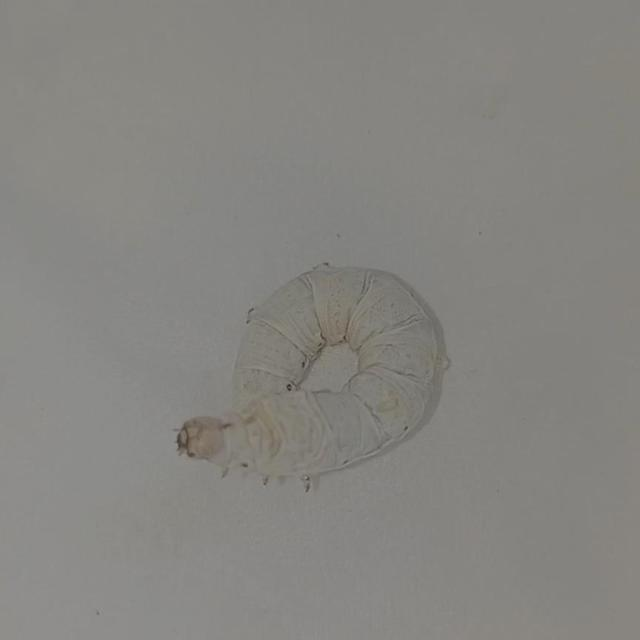Healthy: (167, 251, 454, 496)
